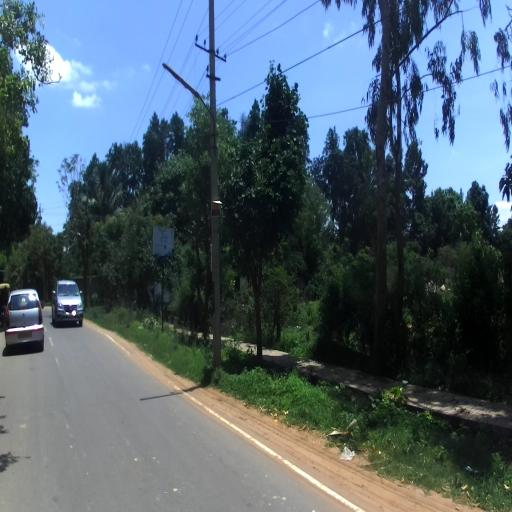street_light_0: (162, 62, 218, 151), (77, 232, 81, 236)
